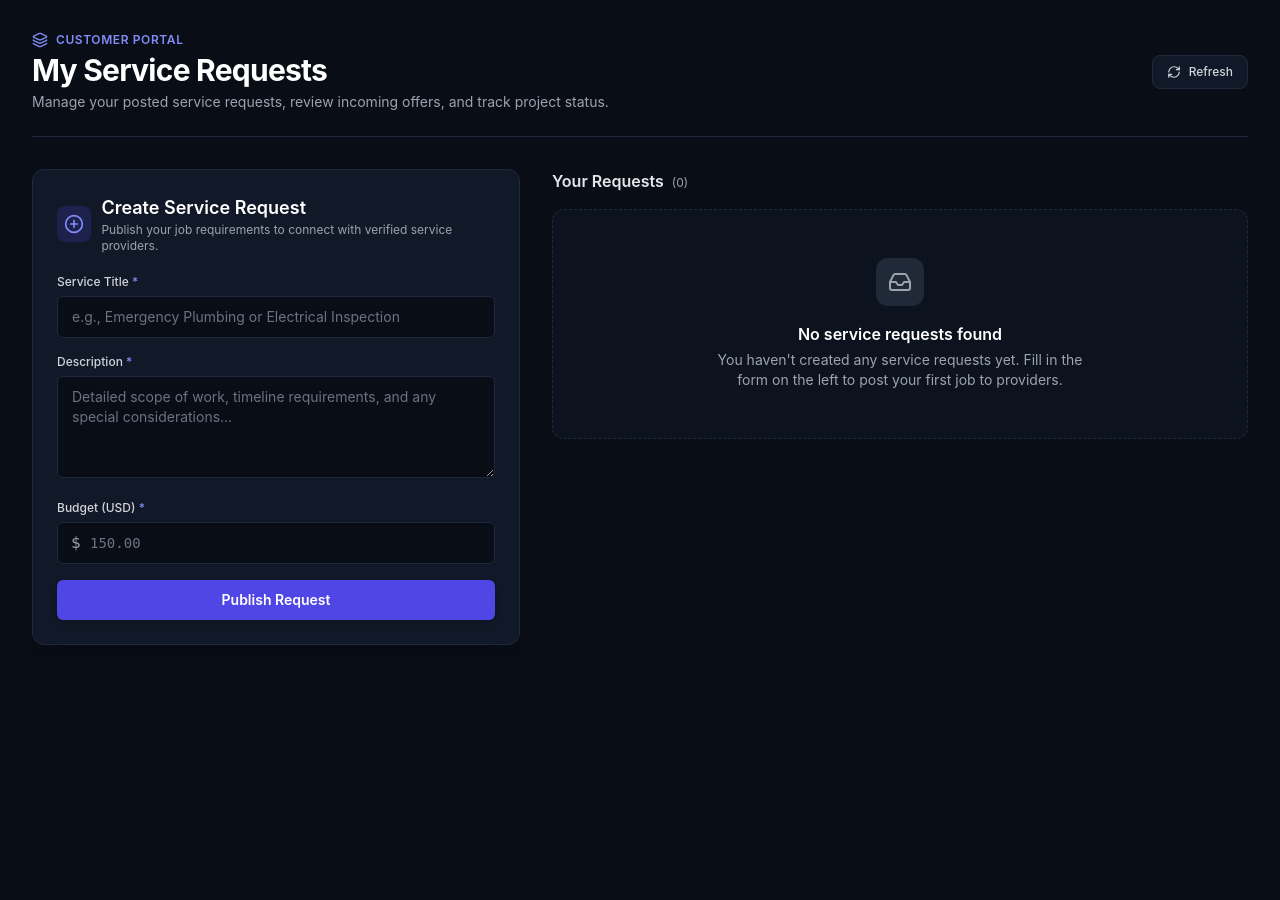
FEAT-002-FE: Service Requests UI & Feeds › should submit valid request form and immediately append new request to customer list
Check: the element with test id "empty-state" is shown, box [552,209,1248,439]
# Fill the create form
Type "Full HVAC Inspection" into the field labelled "Service Title *" at [276, 317], box [57,296,495,338]
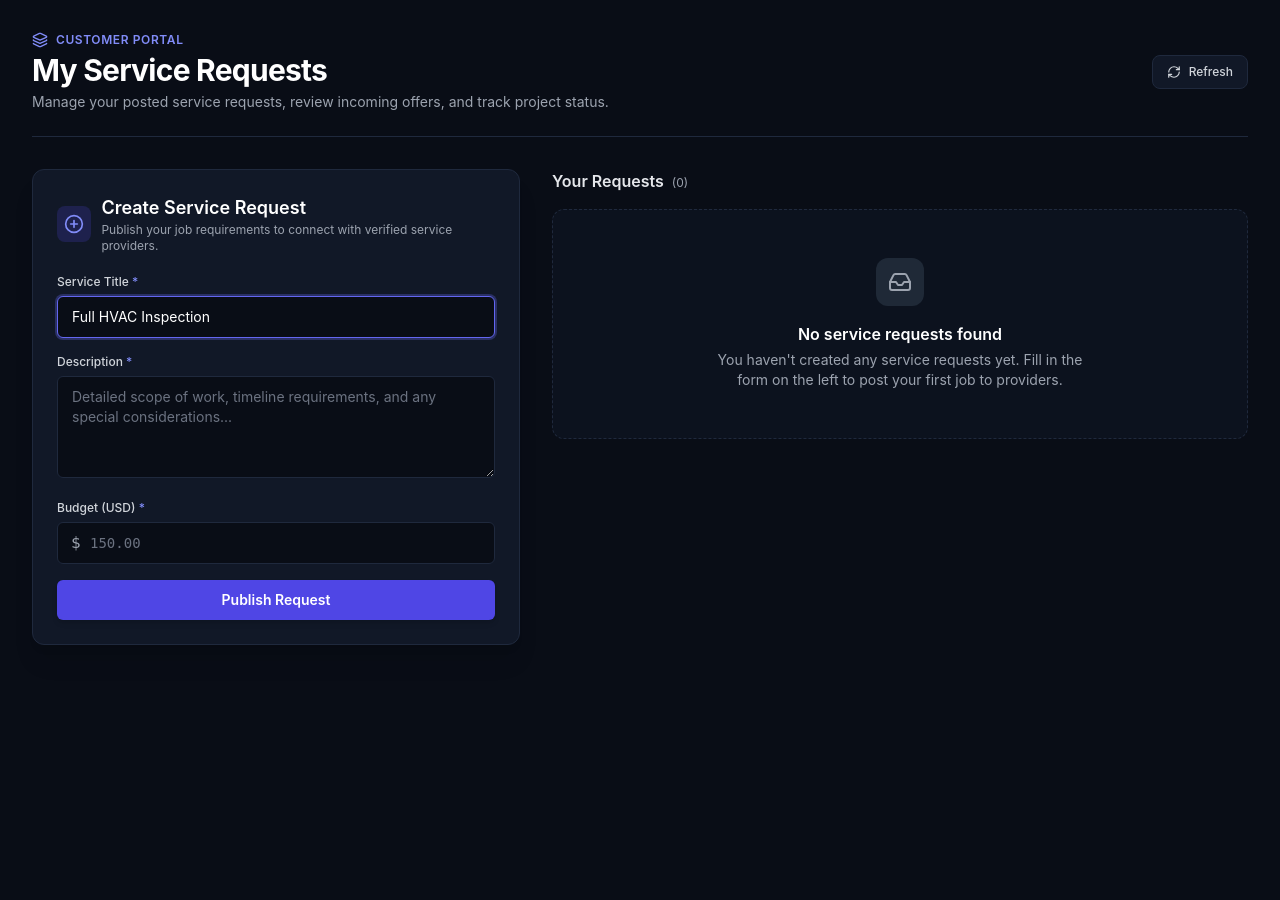
Type "Annual heat pump and AC comprehensive inspection before summer." into the text box labelled "Description *" at [276, 427], box [57,376,495,478]
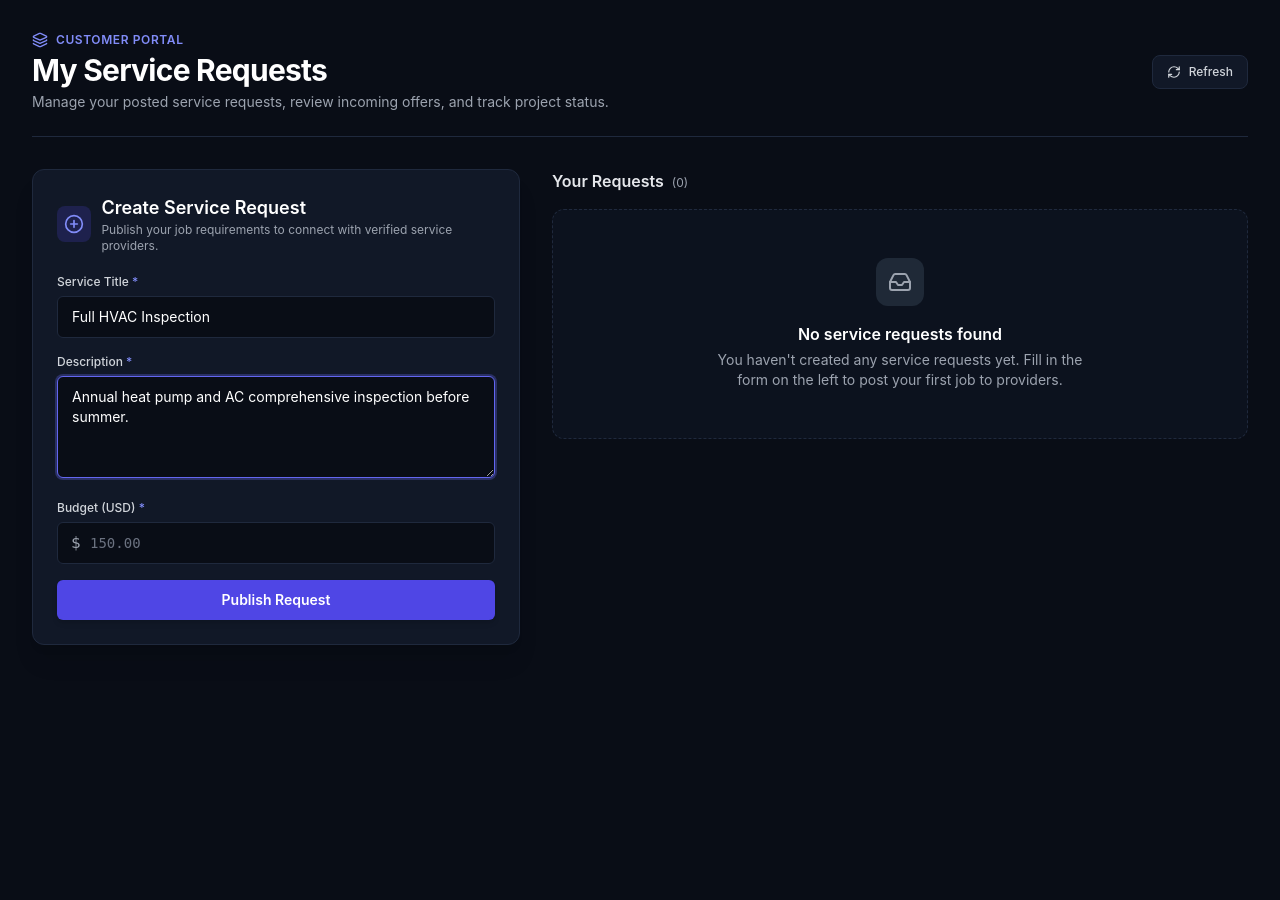
Type "250" into the number field labelled "Budget (USD) *" at [276, 543], box [57,522,495,564]
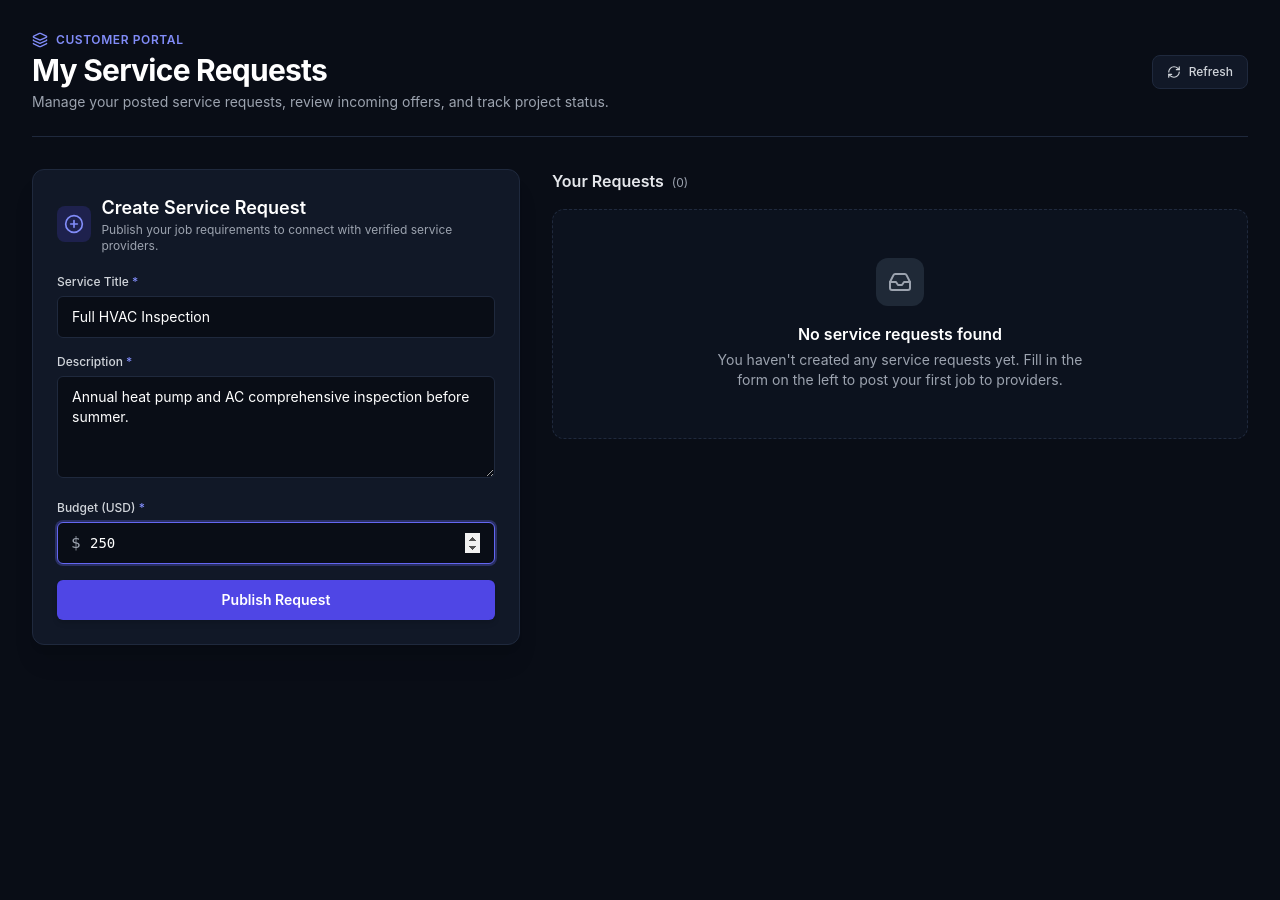
# Submit form
Click the button with test id "create-request-submit-button" at [276, 600], box [57,580,495,620]
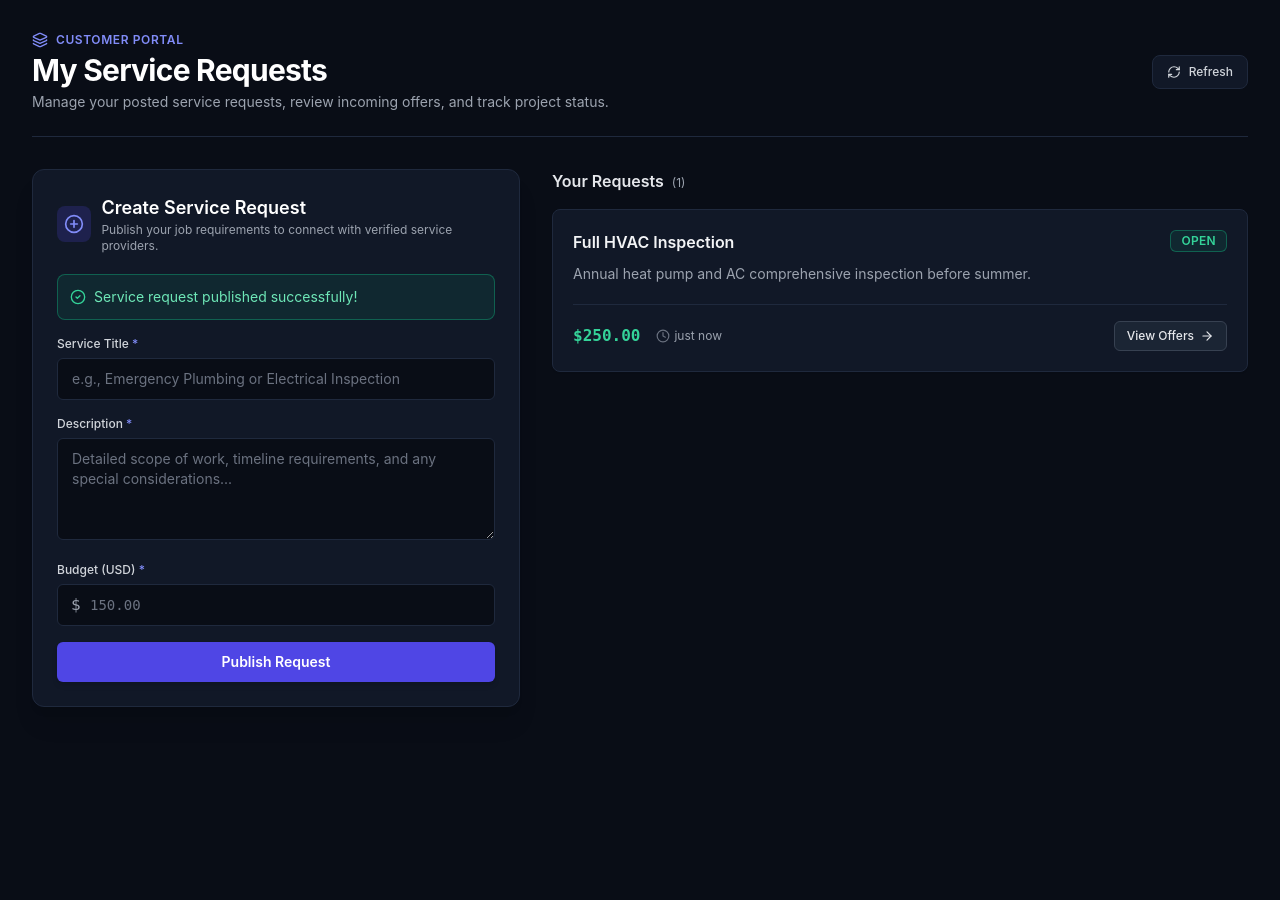
Check: the heading "Full HVAC Inspection" is shown, box [573,230,734,254]
Check: the text "$250.00" is shown, box [573,324,640,348]
